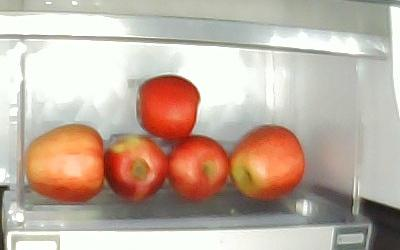apple: (26, 124, 105, 203), (229, 124, 304, 201), (105, 135, 168, 203), (136, 75, 201, 140), (168, 135, 229, 201)
